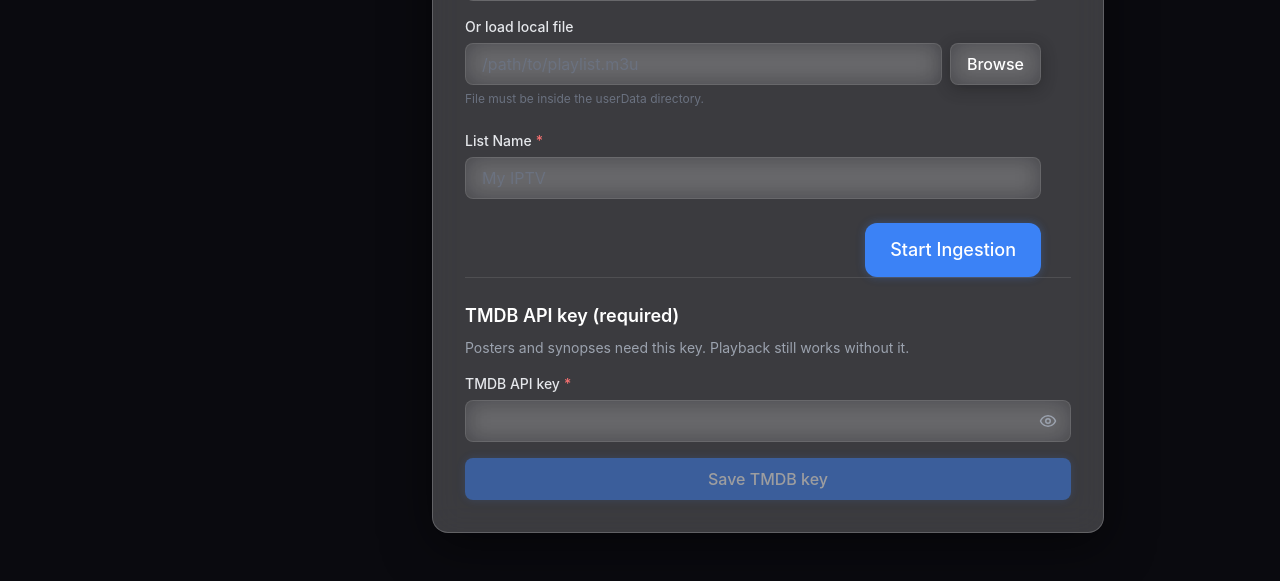
Test: IngestPage › requires a TMDB key on the vault and never displays the saved key (FA-08)
(page scrolled)
Expected: the element with test id "tmdb-key-onboarding" is shown, [465,276,1071,500]
Type "abc123def456" into the password field with id "tmdb-api-key" at [768, 420], box [465,400,1071,442]
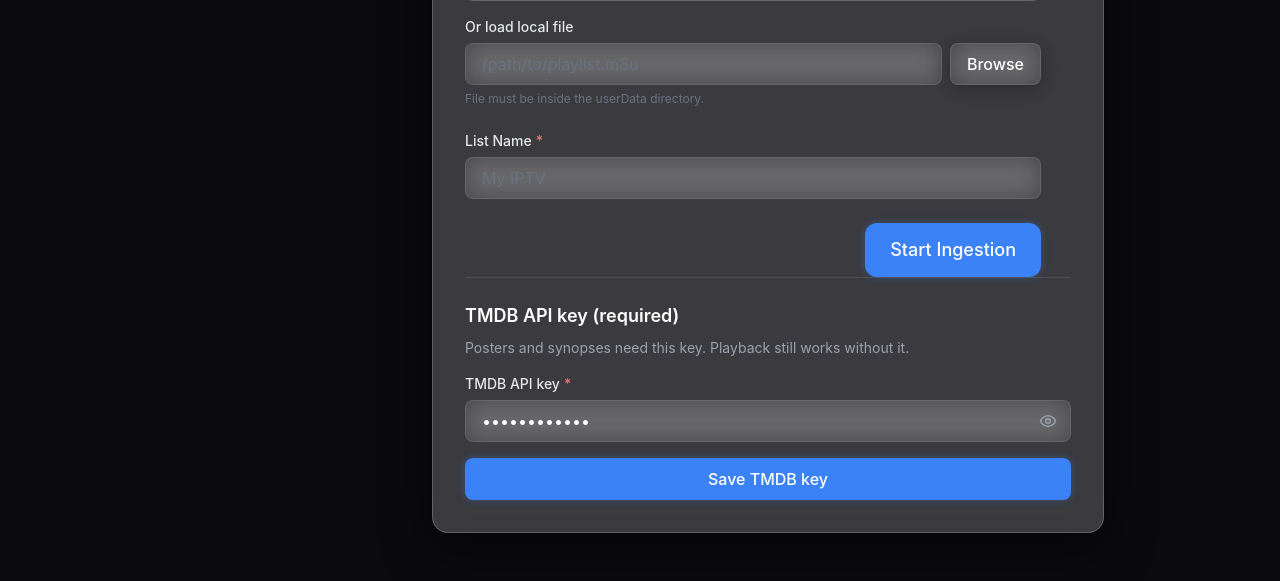
Click the button "Save TMDB key" at [768, 478], box [465,458,1071,500]
(page scrolled)
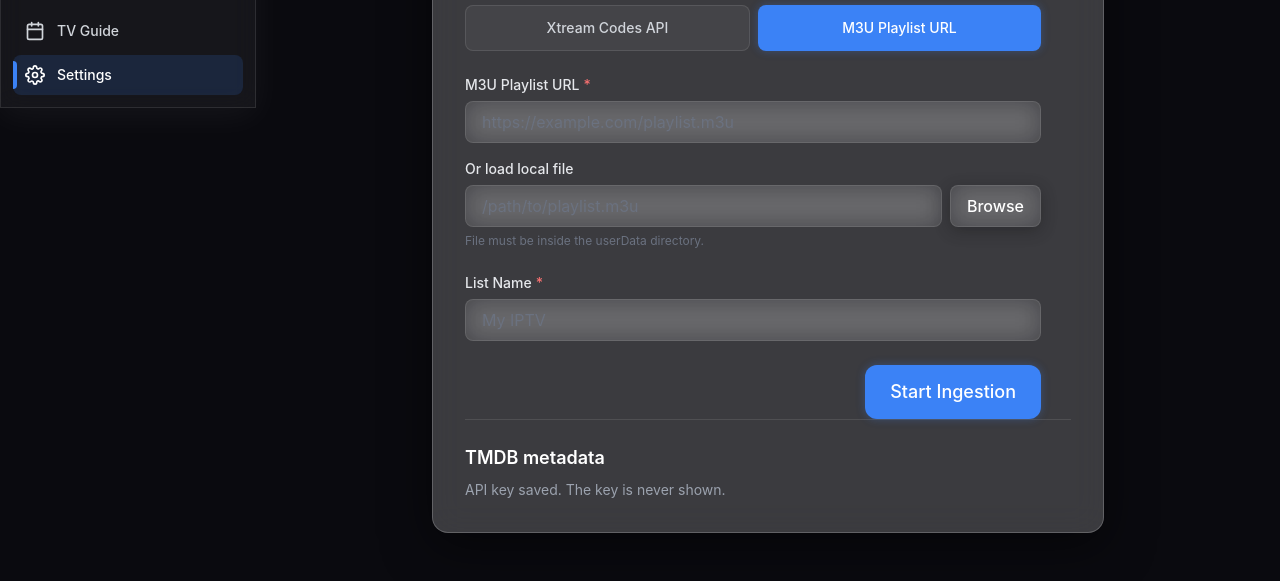
Expected: the element with test id "tmdb-key-configured" is shown, [465,418,1071,500]
